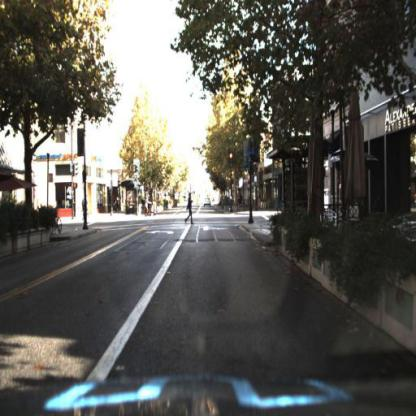pedestrian: (143, 195, 159, 220), (186, 190, 195, 220), (82, 198, 91, 223)
trafficLight-Red: (229, 146, 237, 170)
